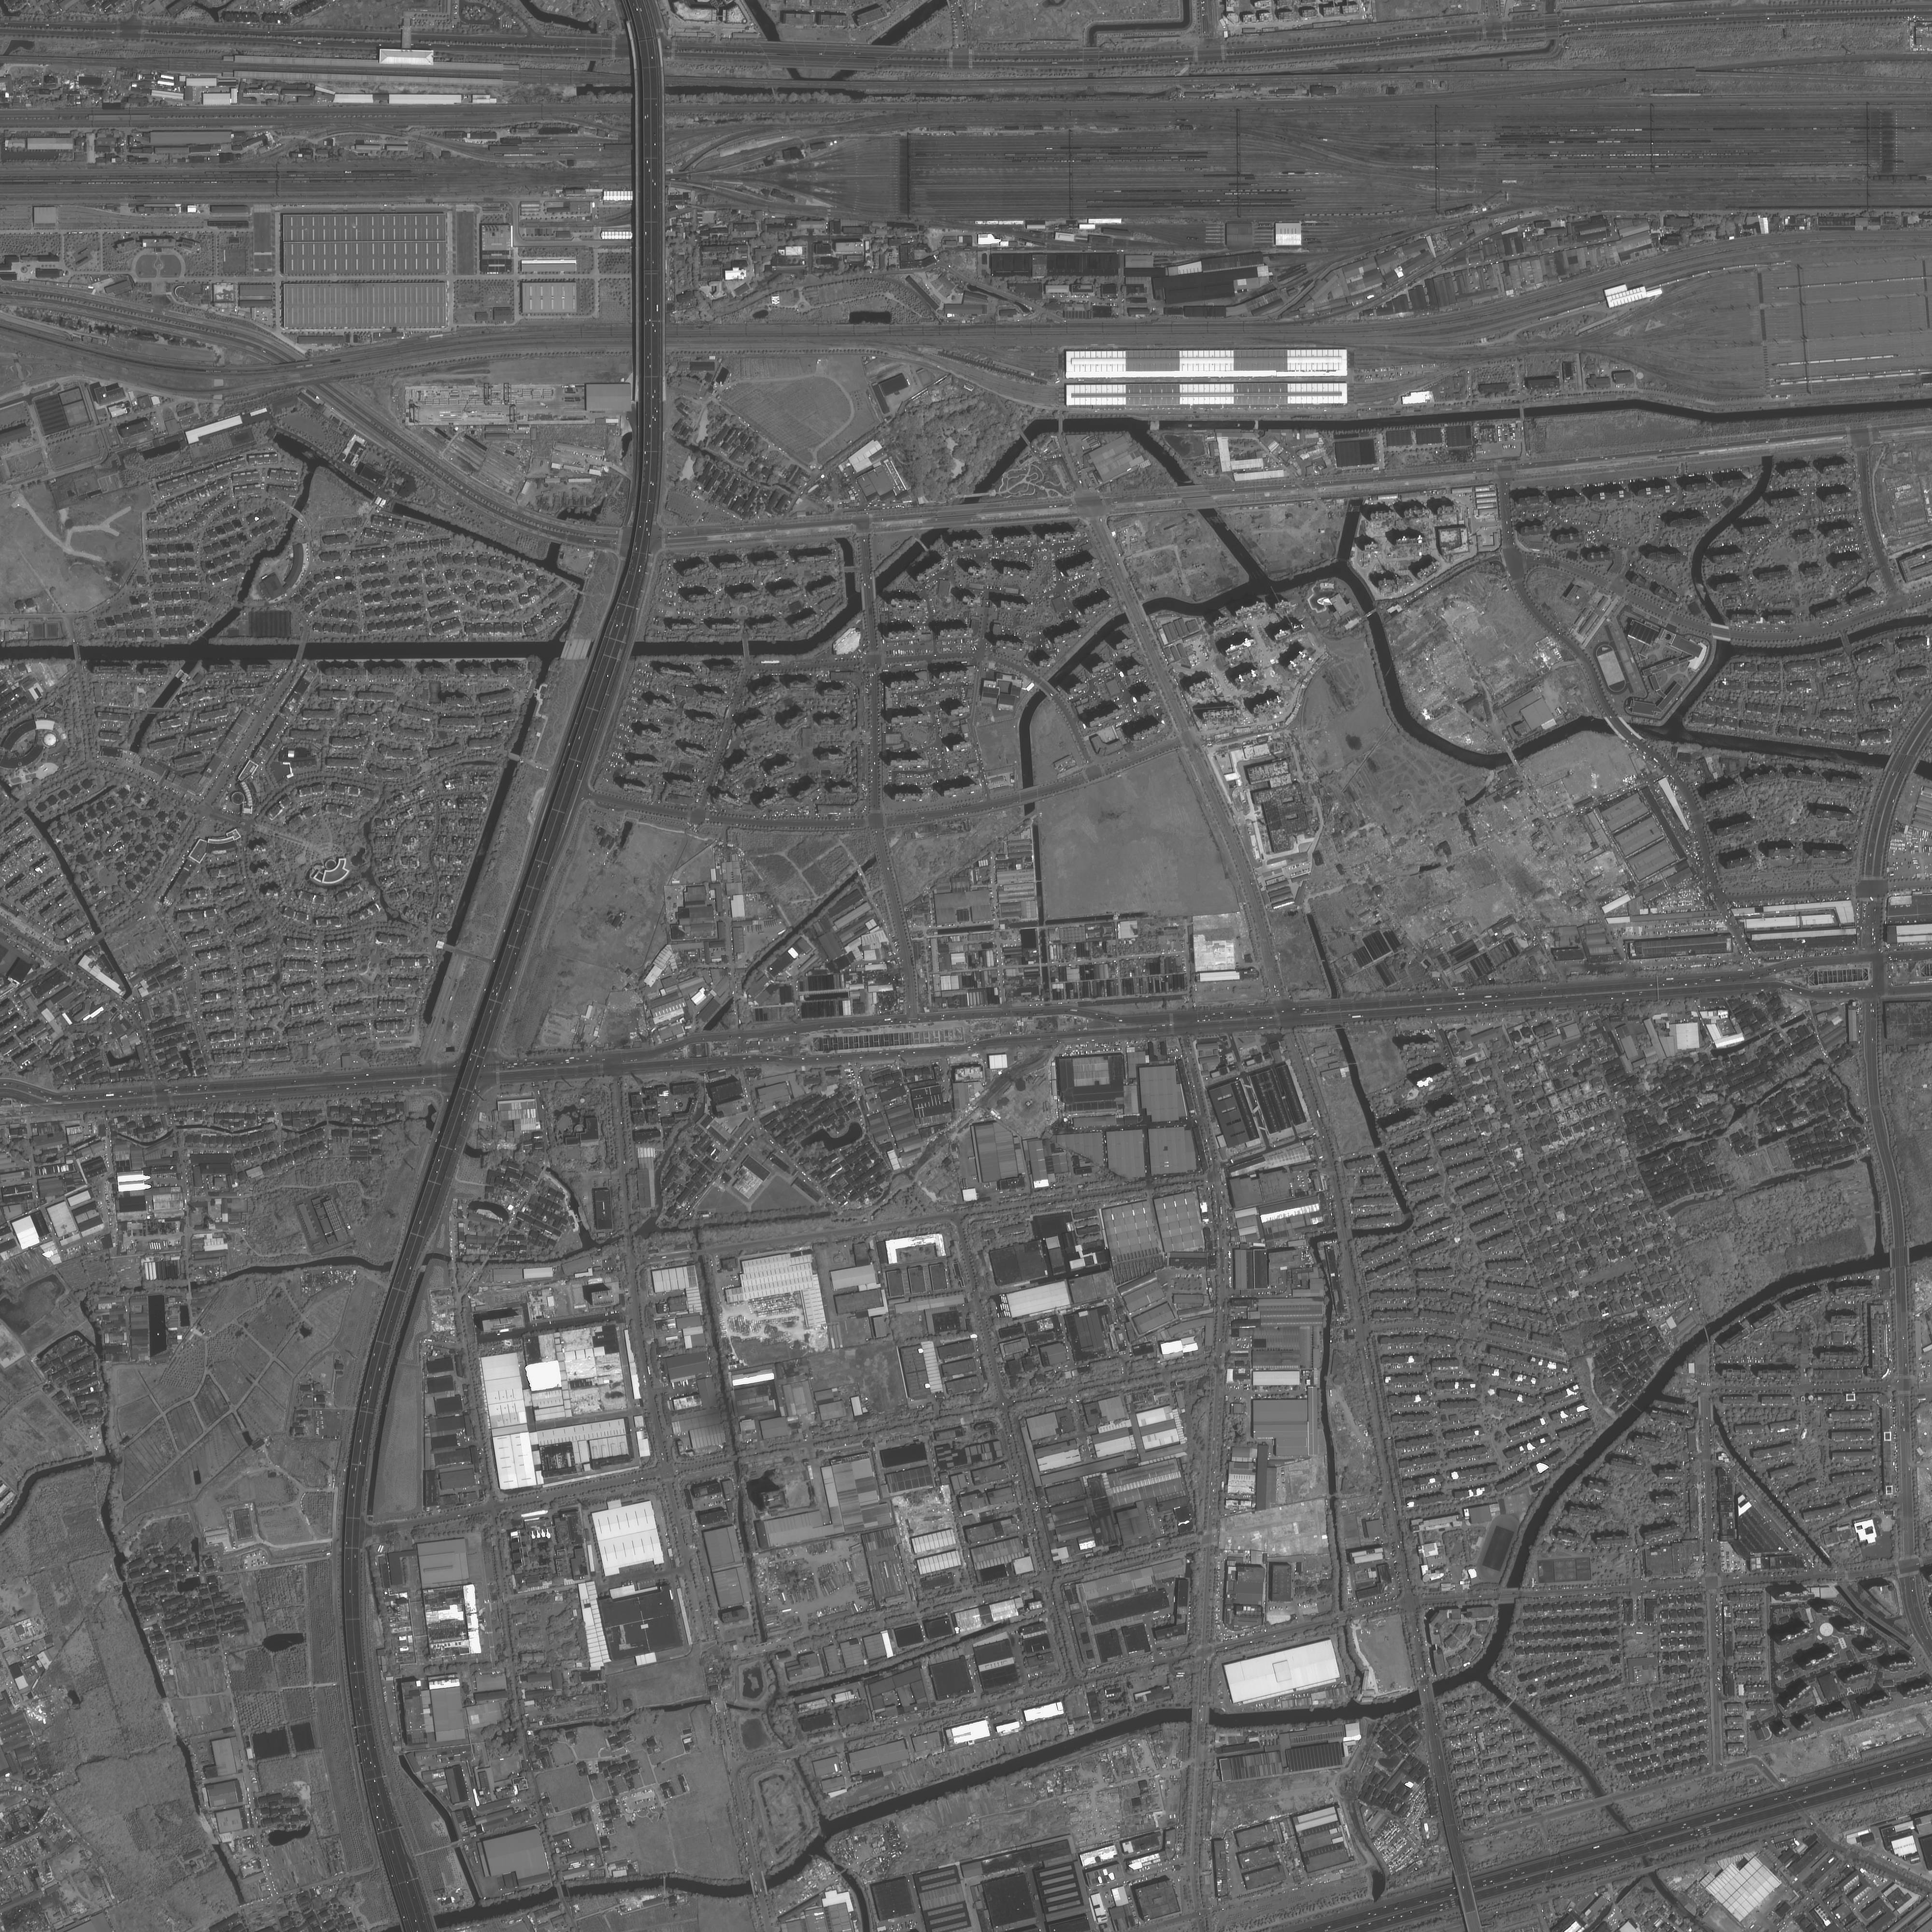bridge: (1605, 711, 1640, 747), (596, 632, 635, 663), (559, 635, 591, 663), (393, 1251, 426, 1277), (936, 502, 987, 517), (398, 1914, 439, 1932), (547, 518, 571, 545), (1882, 750, 1905, 778), (931, 515, 973, 529), (793, 80, 849, 90), (1175, 485, 1212, 499), (867, 44, 899, 60), (860, 582, 878, 610), (1184, 497, 1219, 511), (1900, 754, 1921, 777), (1888, 1247, 1911, 1269), (1123, 605, 1148, 625), (633, 83, 665, 97), (1417, 1684, 1437, 1706), (1329, 998, 1343, 1026), (1039, 679, 1058, 699), (1021, 786, 1040, 805), (1713, 623, 1732, 642), (766, 41, 791, 55), (1500, 1587, 1520, 1605), (1191, 1707, 1210, 1725), (748, 1875, 768, 1893), (847, 58, 874, 71), (1598, 1792, 1615, 1808), (14, 796, 30, 812), (1698, 1401, 1714, 1417), (1506, 748, 1520, 766), (1828, 1568, 1842, 1585), (1019, 432, 1033, 448), (784, 55, 800, 69), (1545, 27, 1560, 41), (294, 642, 306, 660), (1545, 14, 1559, 28), (1338, 1610, 1348, 1628), (916, 538, 929, 552), (741, 639, 750, 656), (290, 508, 303, 520), (94, 931, 106, 943), (442, 943, 456, 954), (1364, 607, 1378, 617), (1840, 633, 1851, 648), (787, 1748, 801, 1759), (1642, 1865, 1656, 1875), (73, 644, 81, 660), (711, 1700, 727, 1709), (451, 1838, 464, 1849), (556, 1886, 566, 1898), (508, 754, 522, 763), (968, 492, 989, 497), (1150, 421, 1161, 432), (1704, 1327, 1711, 1343), (234, 602, 246, 610), (856, 865, 865, 876), (1375, 1145, 1385, 1154), (481, 1258, 490, 1269), (839, 1867, 849, 1875), (844, 566, 856, 573), (1058, 418, 1063, 433), (695, 1249, 706, 1256), (763, 1644, 770, 1652), (1507, 1698, 1514, 1707), (150, 708, 161, 713), (188, 1283, 193, 1293), (1520, 409, 1525, 419), (1040, 962, 1049, 968), (1037, 927, 1047, 931), (663, 1877, 667, 1888), (122, 1578, 127, 1583), (94, 1456, 97, 1463), (1035, 879, 1042, 883)
ground track field: (1476, 1509, 1523, 1585)
storage tank: (42, 732, 57, 747)
